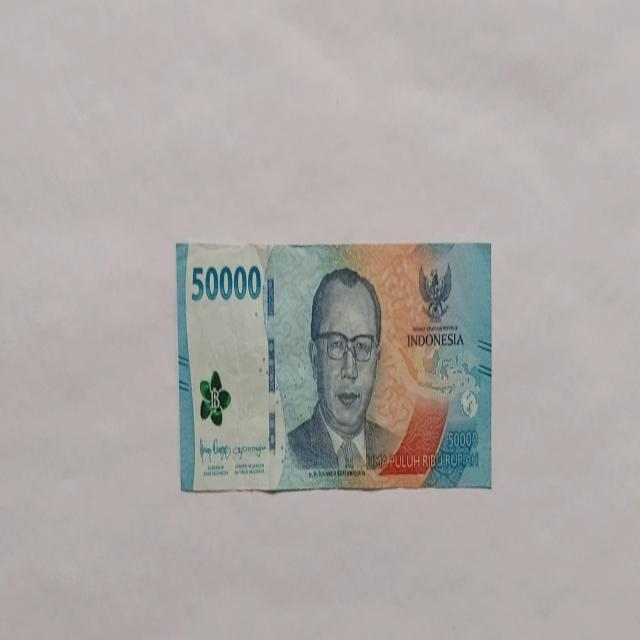lima puluh ribu rupiah: (176, 239, 492, 493), (284, 266, 406, 477)
